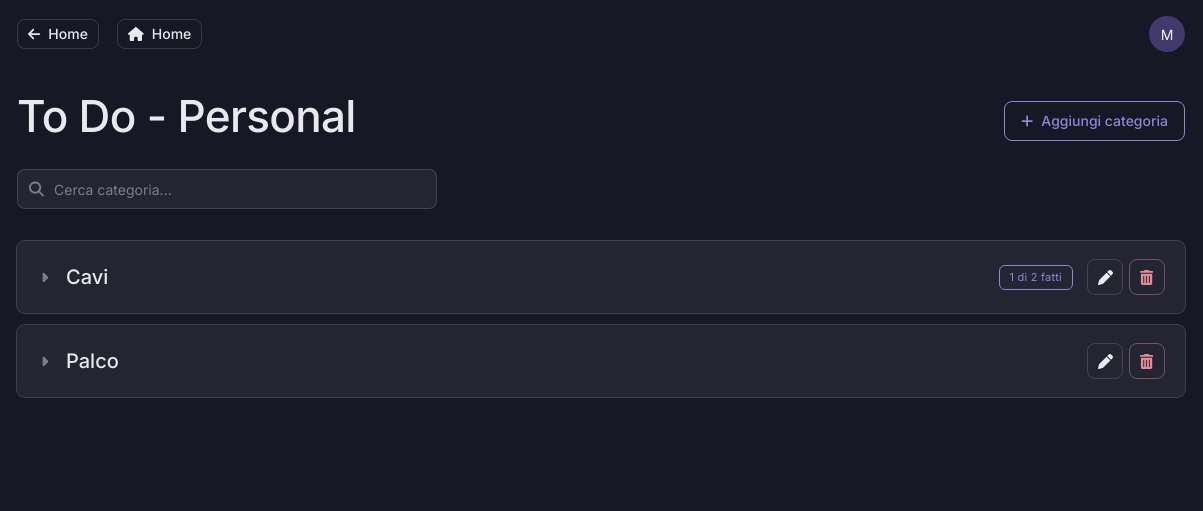
Test case: CategoryListPage › mostra il messaggio per le categorie vuote
The image size is (1203, 511).
Click the button "Palco": (92, 361) x1=37 y1=349 x2=1073 y2=373
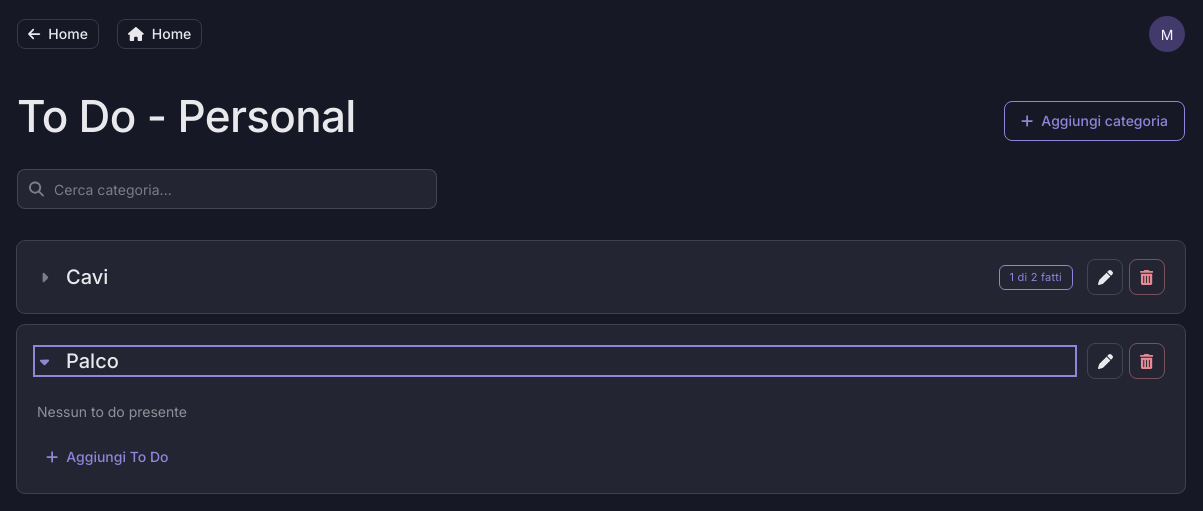
Now the text "Nessun to do presente" is shown, box x1=37 y1=403 x2=187 y2=420
